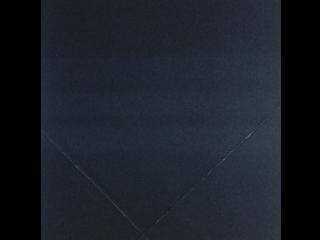crack: (133, 104, 282, 240), (41, 121, 144, 240)
